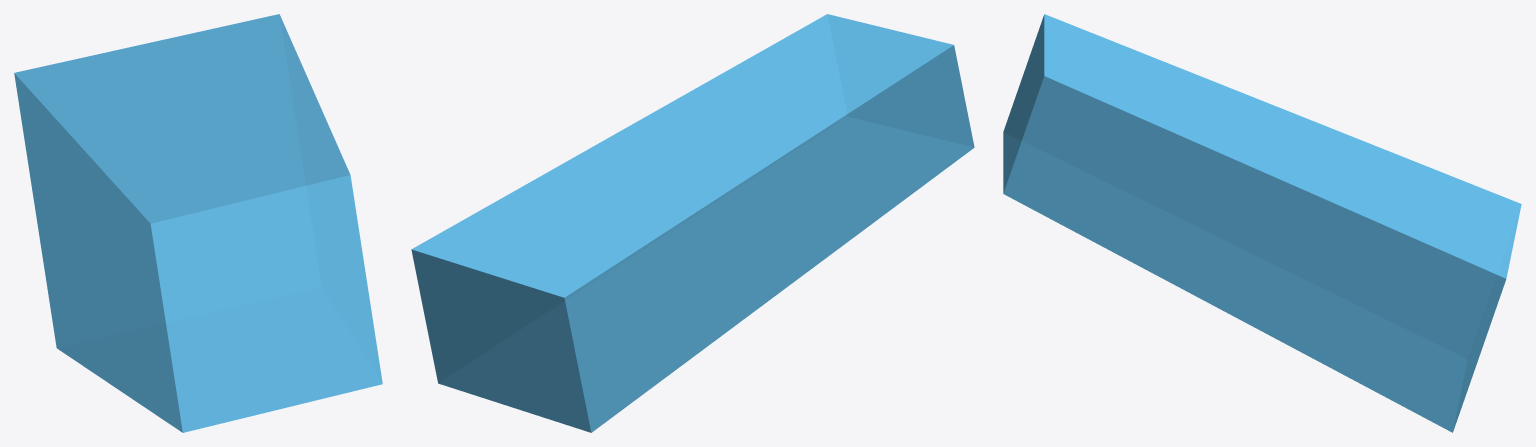
The model's file is Event_421127236_HBrechit_26.fbx.
The picture shows the model from 3 angles, left to right: view 1: azimuth 30°, elevation 25°; view 2: azimuth 150°, elevation 25°; view 3: azimuth 270°, elevation 25°; orthographic projection. The views are drawn at different scales.
Visible parts, largest first — view 1: Model; view 2: Model; view 3: Model.
Part boxes in pixels (left/top/right/bottom): Model: left=14, top=14, right=382, bottom=432; Model: left=411, top=14, right=974, bottom=432; Model: left=1003, top=14, right=1521, bottom=432.
Bounding box in the file's own units: 1.06 × 0.8805 × 1.53.
